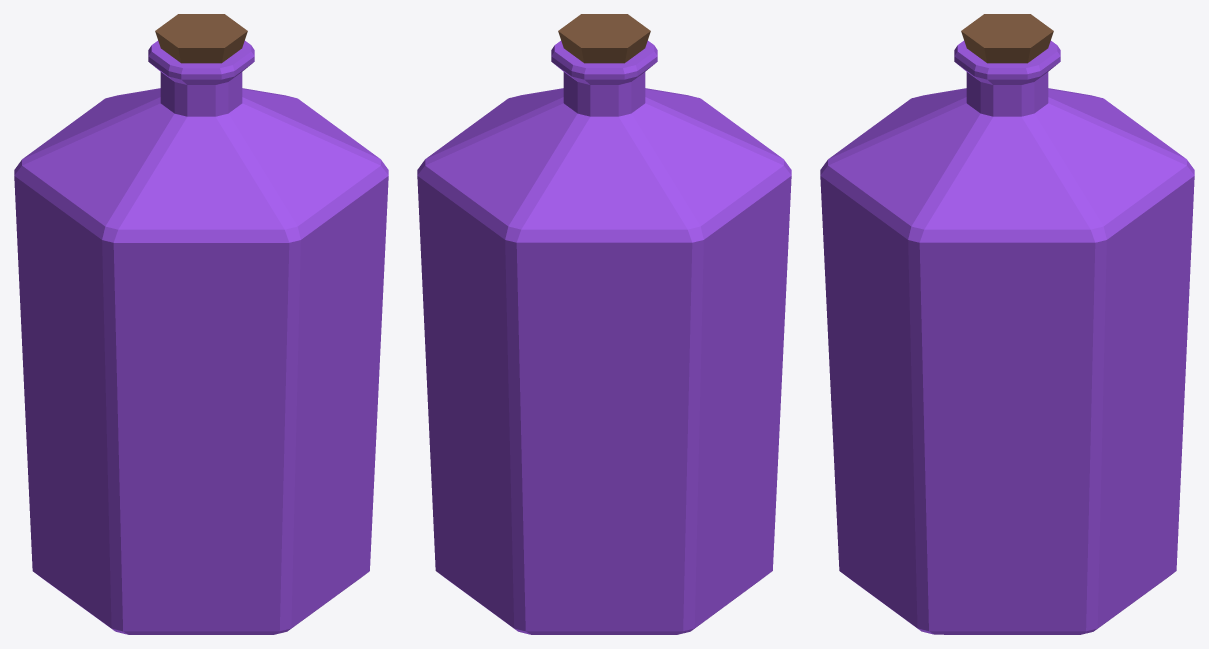
The model's file is Potion_02_Purple.fbx.
3 views of the same model, side by side, from view 1: azimuth 30°, elevation 25°; view 2: azimuth 150°, elevation 25°; view 3: azimuth 270°, elevation 25° (orthographic).
Visible parts, largest first — view 1: Cone.021, Cylinder.063, Cylinder.062; view 2: Cone.021, Cylinder.063, Cylinder.062; view 3: Cone.021, Cylinder.063, Cylinder.062.
Part boxes in pixels (x1,y1,x2,y2): Cone.021: (14,88,388,634); Cylinder.063: (148,40,254,116); Cylinder.062: (155,14,247,63); Cone.021: (417,88,791,634); Cylinder.063: (551,40,657,116); Cylinder.062: (558,14,650,63); Cone.021: (820,88,1194,634); Cylinder.063: (954,40,1060,116); Cylinder.062: (961,14,1053,63).
Bounding box in the file's own units: 14.97 × 27.16 × 16.94.
